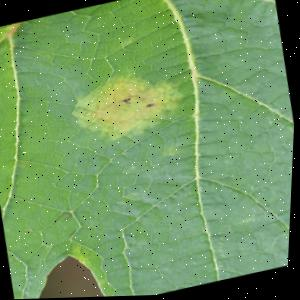Folha: (0, 0, 300, 300)
Fungo: (64, 61, 192, 149), (120, 93, 155, 114), (121, 97, 131, 106), (145, 103, 154, 108), (25, 228, 32, 232), (261, 1, 267, 5), (229, 175, 235, 179), (43, 56, 48, 59), (141, 99, 145, 102)
